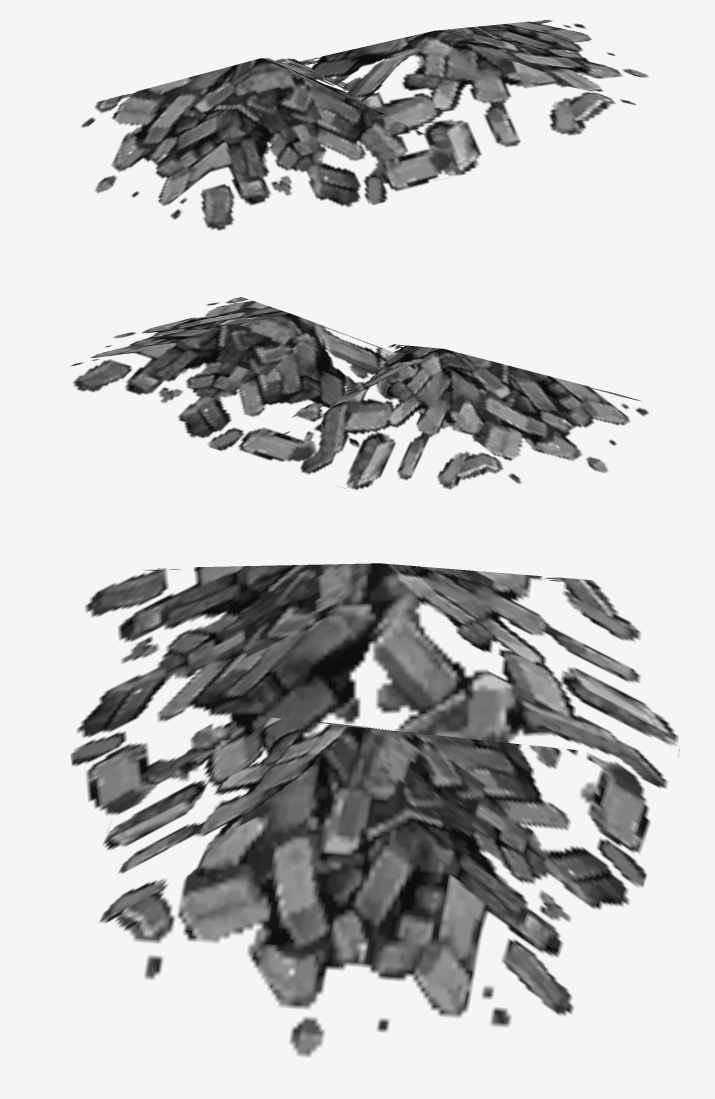
The model's file is Environment - Prop - Statue Roman - PMWallStn1_R.glb.
3 views of the same model, one above another, from view 1: azimuth 30°, elevation 25°; view 2: azimuth 150°, elevation 25°; view 3: azimuth 270°, elevation 25° (orthographic). The views are drawn at different scales.
Parts seen in each view (by area): view 1: PMWALLSTN1_R; view 2: PMWALLSTN1_R; view 3: PMWALLSTN1_R.
Part boxes in pixels (bbox=[...]): PMWALLSTN1_R: bbox=[81, 20, 648, 230]; PMWALLSTN1_R: bbox=[70, 297, 648, 489]; PMWALLSTN1_R: bbox=[70, 563, 679, 1056].
Bounding box in the file's own units: 29.15 × 4.49 × 16.51.
Materials: 1 (1 with a texture image).
